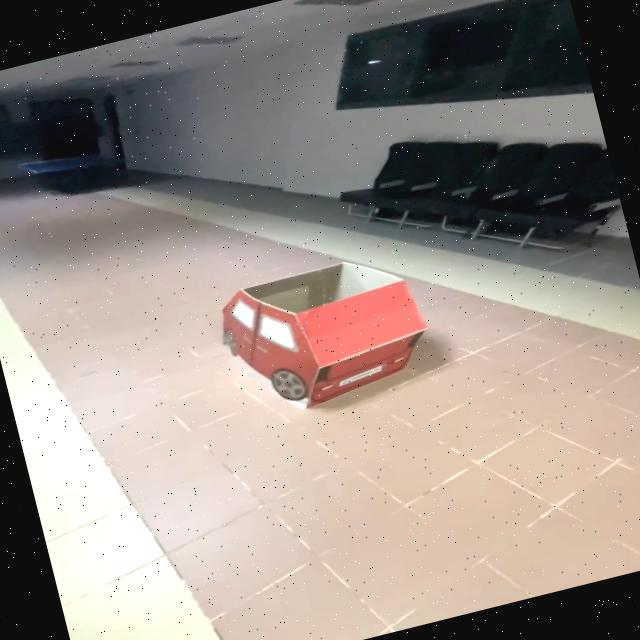red_car: (135, 218, 502, 480)
